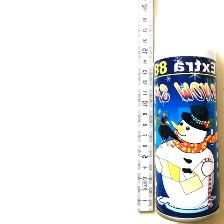aerosol_cans: (147, 1, 222, 223)
